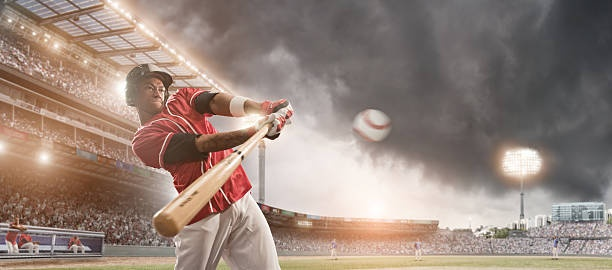bita: (156, 119, 258, 239)
